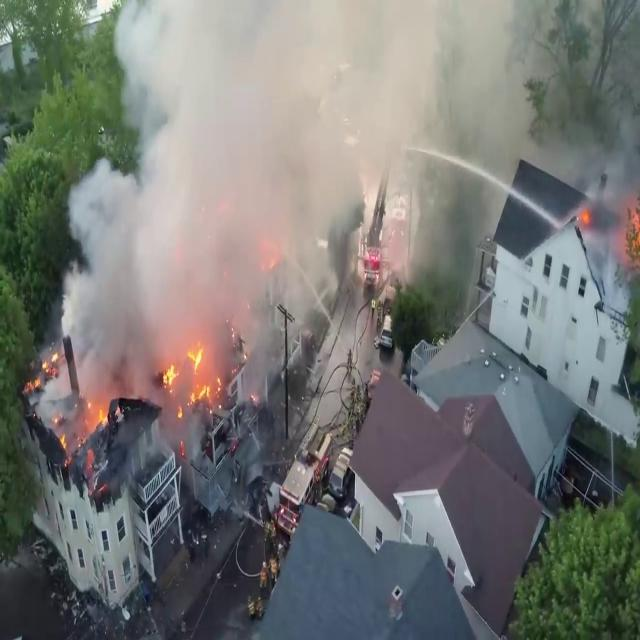Fire: (160, 338, 220, 414)
Smoke: (54, 0, 544, 395)
